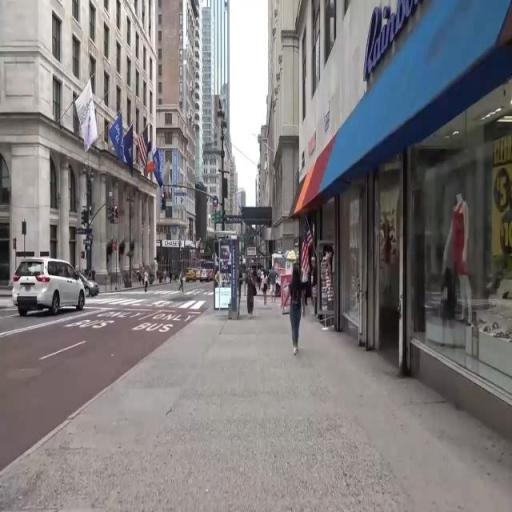person: (288, 268, 308, 364), (248, 274, 256, 319), (303, 259, 310, 304), (270, 268, 279, 302), (180, 268, 189, 296), (264, 273, 268, 305), (146, 267, 150, 293), (260, 268, 263, 293), (93, 267, 97, 281), (140, 272, 143, 286), (171, 269, 173, 286), (143, 271, 145, 286), (158, 270, 160, 283), (165, 271, 167, 283)
